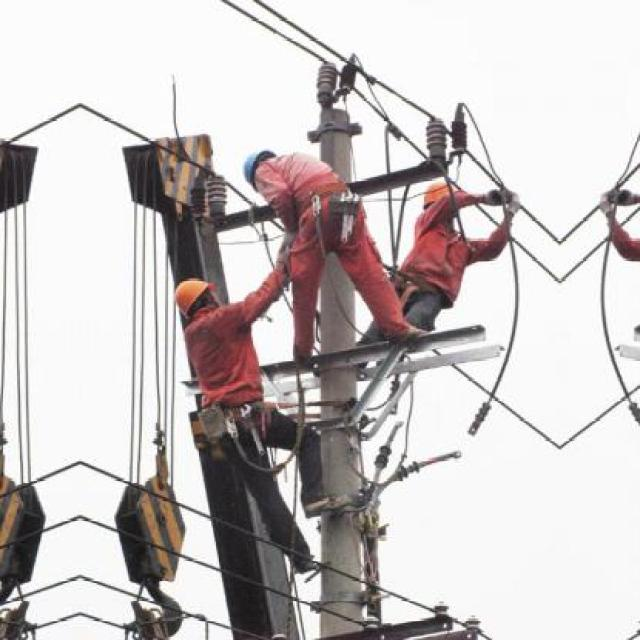helmet: (165, 274, 228, 326), (424, 178, 464, 232), (240, 146, 283, 189)
